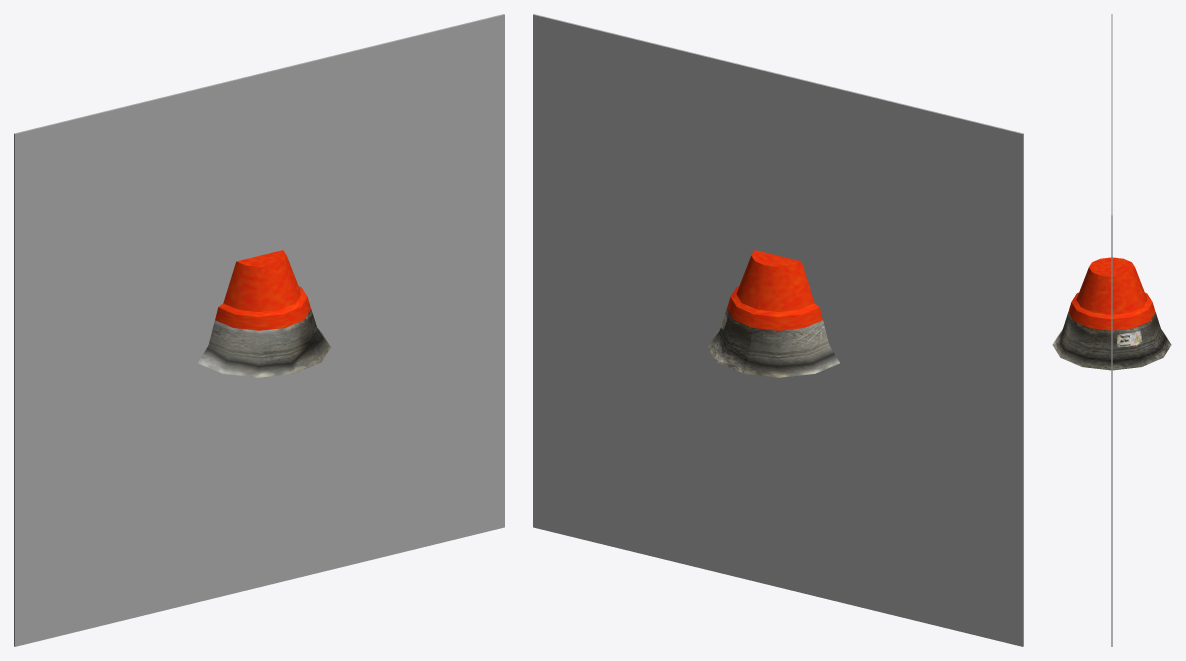
The model's file is lights_emergencylight_tiny.dae.
3 renders of one model, left to right at view 1: azimuth 30°, elevation 25°; view 2: azimuth 150°, elevation 25°; view 3: azimuth 270°, elevation 25°, orthographic. The views are drawn at different scales.
Parts seen in each view (by area): view 1: _bb_halo_emergencylight_halo01, polySurface2, polySurface1; view 2: _bb_halo_emergencylight_halo01, polySurface2, polySurface1; view 3: polySurface1, polySurface2, _bb_halo_emergencylight_halo01.
Boxes of the visible parts, x1,y1,x2,y2 form: _bb_halo_emergencylight_halo01: (14, 14, 504, 646); polySurface2: (198, 309, 330, 377); polySurface1: (215, 250, 310, 330); _bb_halo_emergencylight_halo01: (533, 14, 1023, 646); polySurface2: (707, 309, 839, 377); polySurface1: (727, 250, 822, 330); polySurface1: (1068, 257, 1155, 330); polySurface2: (1052, 312, 1171, 370); _bb_halo_emergencylight_halo01: (1111, 14, 1112, 646).
Size of what is drawn, in the model's own units: 0.3 by 0.3 by 0.075.
